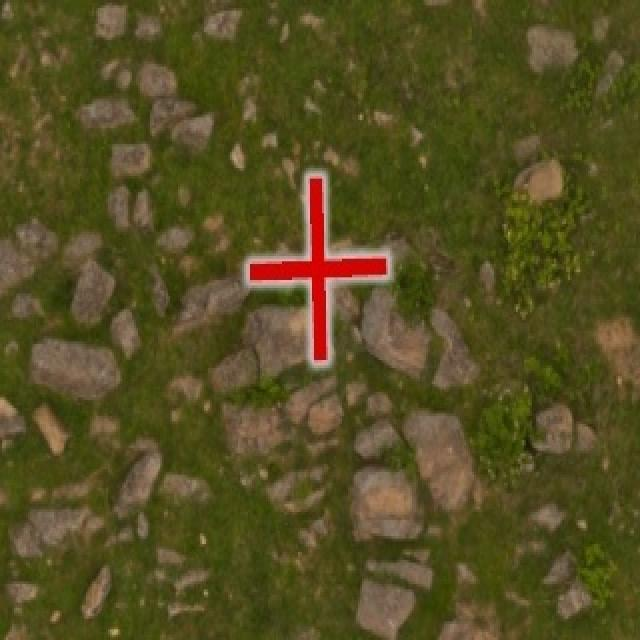x_marker: (247, 175, 387, 361)
